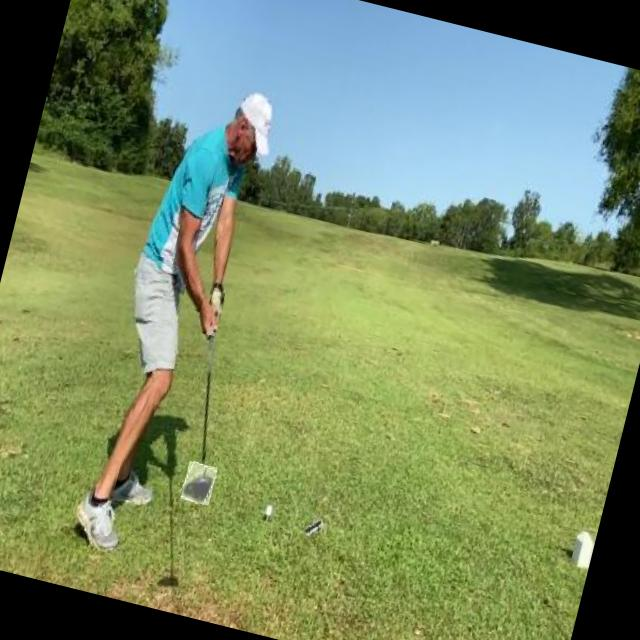club head: (180, 460, 218, 506)
